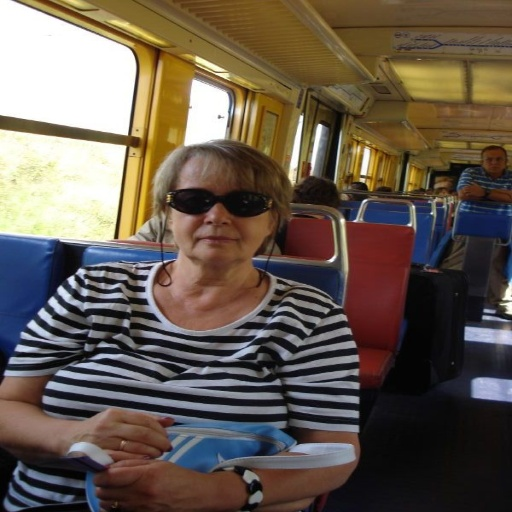hand: (44, 406, 182, 470), (90, 457, 207, 511), (461, 179, 484, 199)
